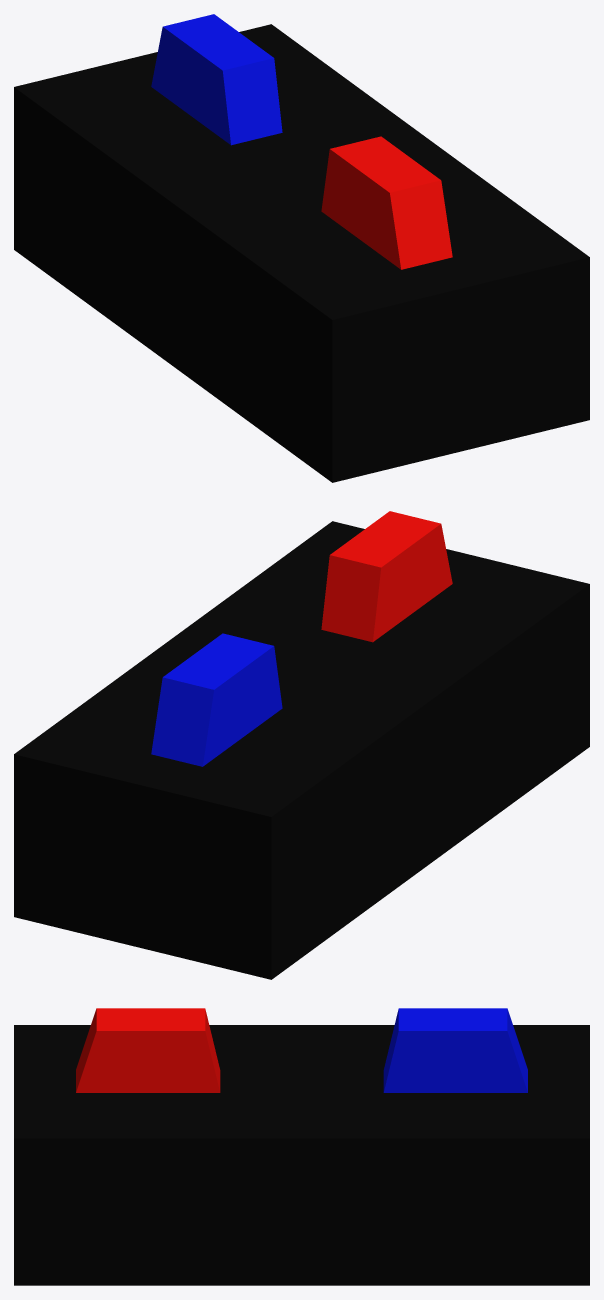
The model's file is Battery_Prop.fbx.
The picture shows the model from 3 angles, top to bottom: view 1: azimuth 30°, elevation 25°; view 2: azimuth 150°, elevation 25°; view 3: azimuth 270°, elevation 25°; orthographic projection. The views are drawn at different scales.
Parts seen in each view (by area): view 1: Box008; view 2: Box008; view 3: Box008.
Part boxes in pixels (x1,y1,x2,y2): Box008: [14, 14, 589, 482]; Box008: [14, 511, 589, 979]; Box008: [14, 1008, 589, 1285].
Size of the model in its own units: 2.39 by 2.05 by 5.12.
